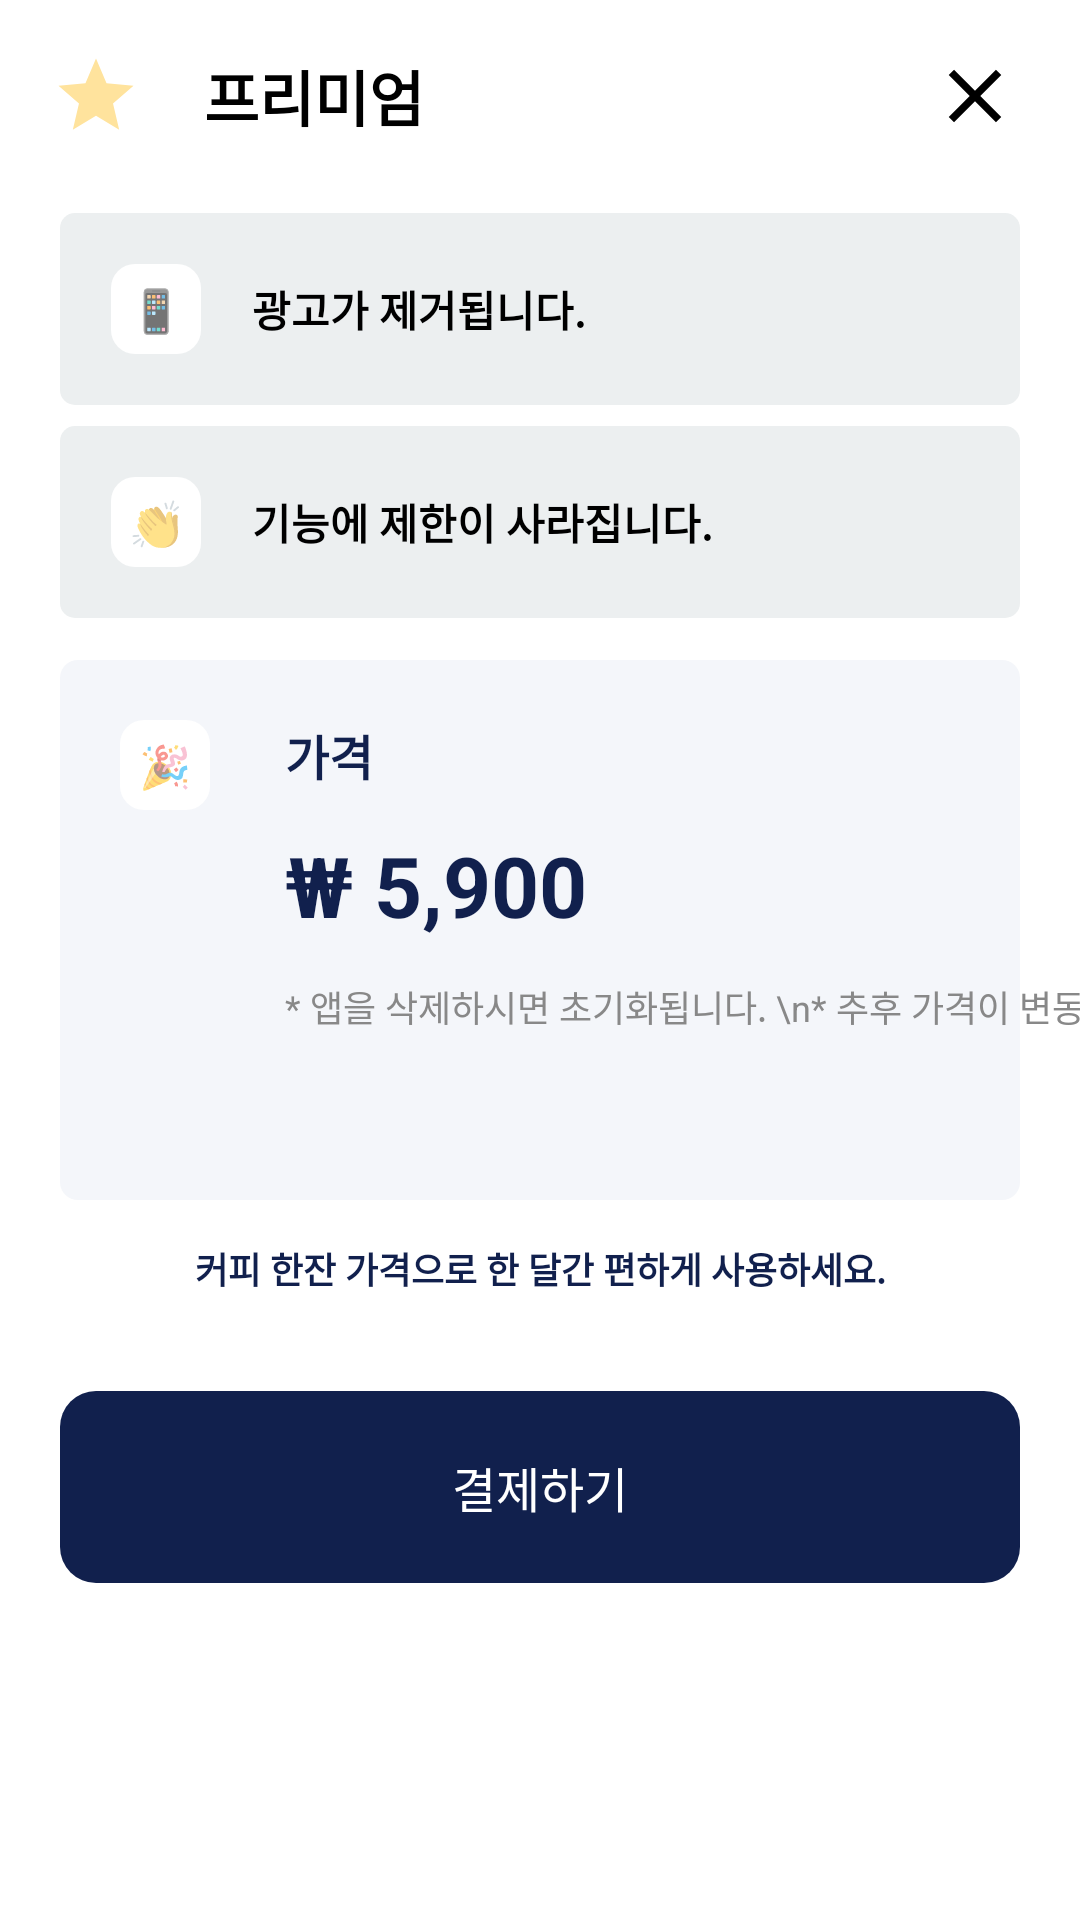

Icon bounding boxes for this 1080 x 1920 phone screenshot, format box(x1, y1, x2, y2):
premium exit: box(949, 70, 1001, 122)
premium star: box(59, 59, 133, 130)
